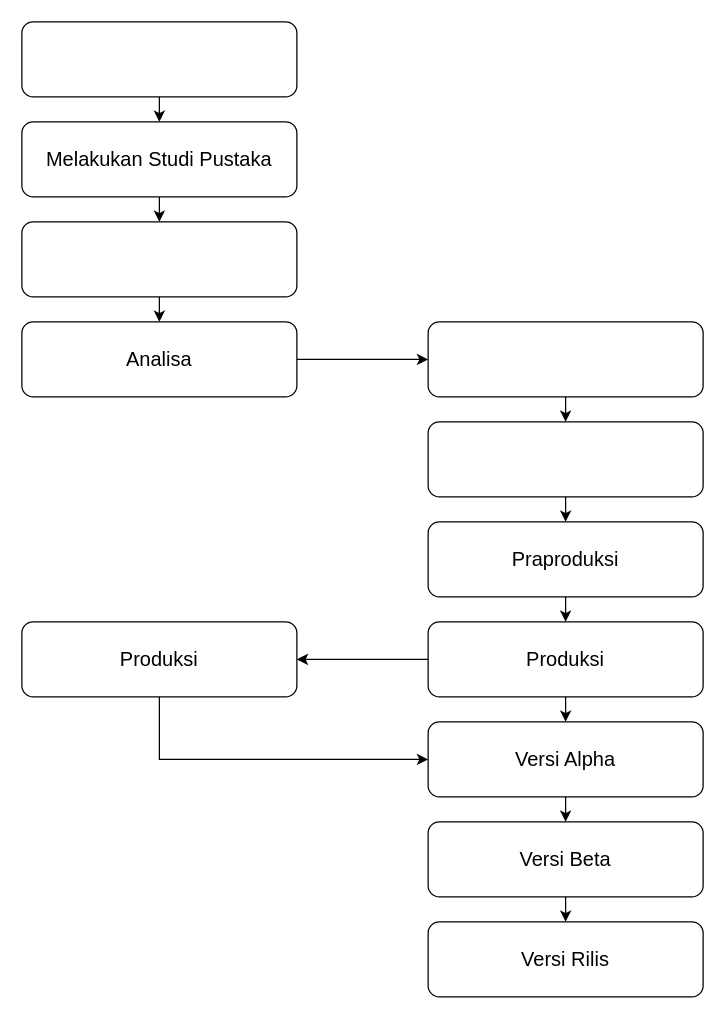
This 725x1019 diagram has some shape labels left out. Here are the shapes that lost their labels. From the top down, the centre of each, then its label:
At (159,59): "Identifikasi Masalah".
At (159,259): "Pengumpulan Data".
At (565,359): "Inisiasi".
At (565,459): "Membangun Tim".
